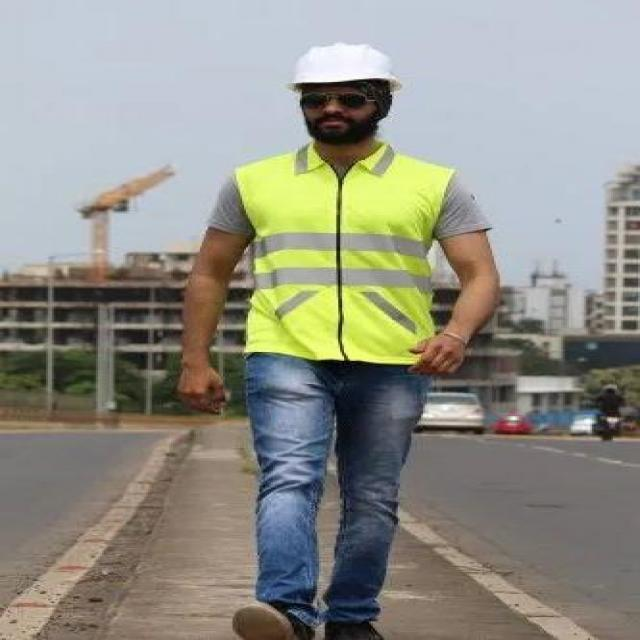reflective_jacket: (213, 139, 474, 373)
safety_helmet: (278, 34, 411, 96)
